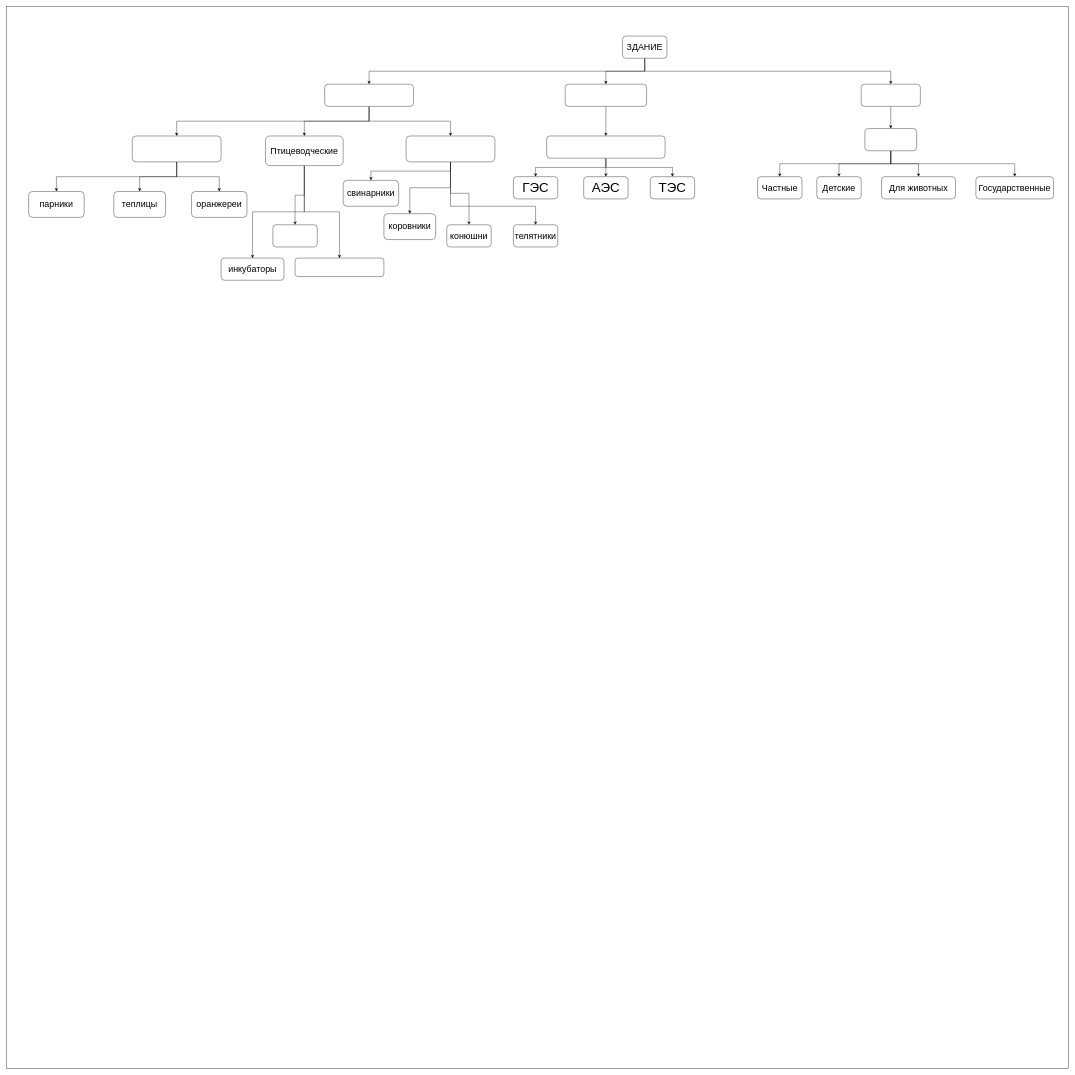
The diagram is 1075 pixels wide and 1075 high, and some of its shapes have lost their labels. Each missing label, with the centre of its shape:
"акклиматизаторы" goes at [339,267].
"Больница" goes at [891,139].
"Государственные здания" goes at [890,95].
"Животноводческие" goes at [450,149].
"Культивационные" goes at [176,149].
"Промышленные здания" goes at [606,95].
"птичники" goes at [295,235].
"Сельскохозяйственные здания" goes at [368,95].
"Электроэнергитичные" goes at [605,147].
